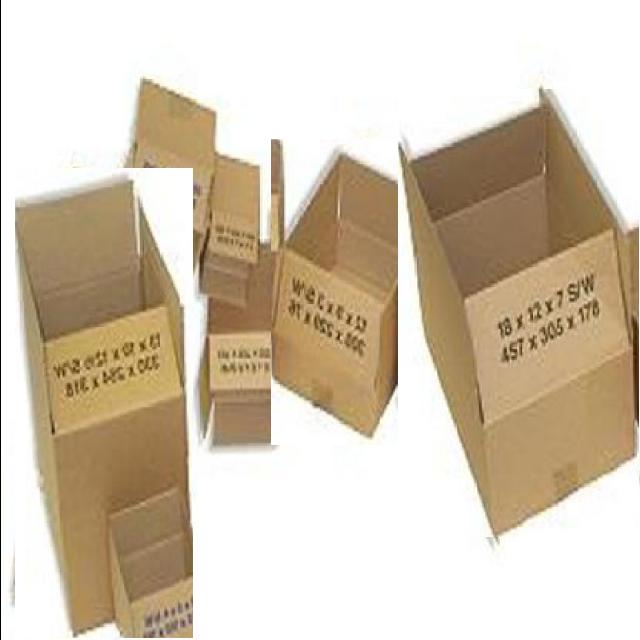defect: (397, 89, 638, 537), (14, 168, 192, 638), (270, 138, 412, 444), (104, 77, 218, 317)
